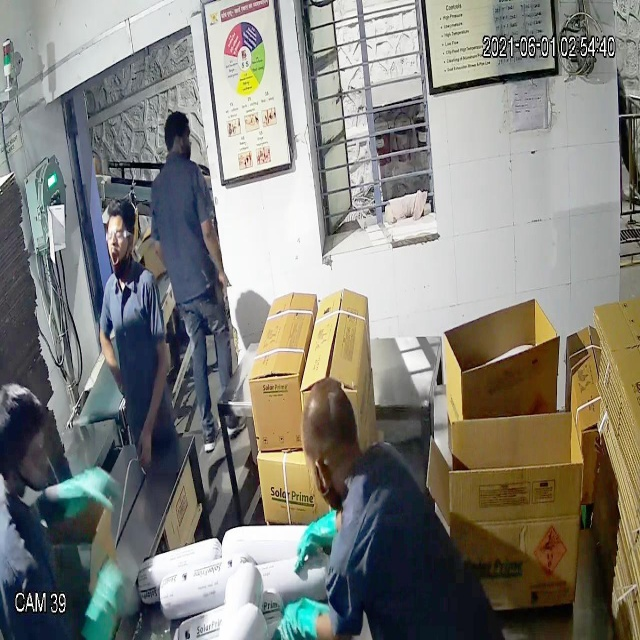Gafas: (97, 218, 142, 256)
